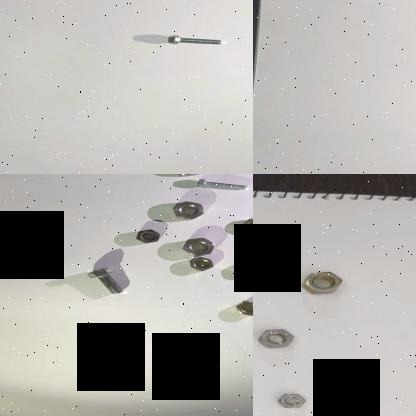Bolts: (82, 264, 126, 296), (187, 175, 251, 193), (166, 28, 226, 47)
NUTS: (253, 315, 314, 351), (286, 266, 350, 297), (262, 386, 322, 412), (169, 198, 207, 221), (177, 237, 217, 257), (133, 228, 163, 244), (186, 257, 218, 271), (233, 298, 253, 316), (235, 261, 253, 275), (242, 215, 253, 235)
